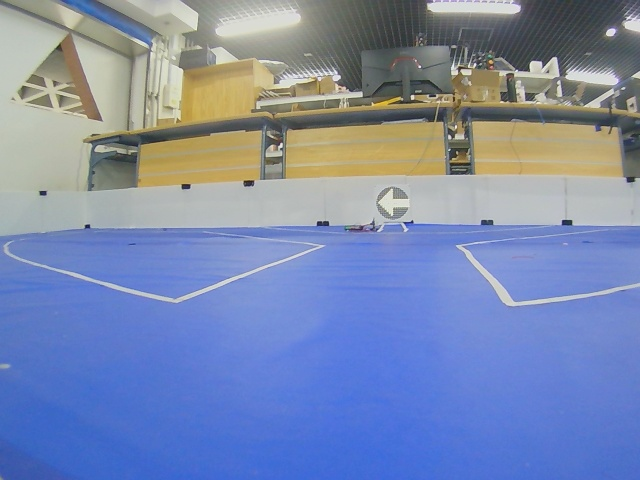left_yellow: (376, 187, 410, 220)
